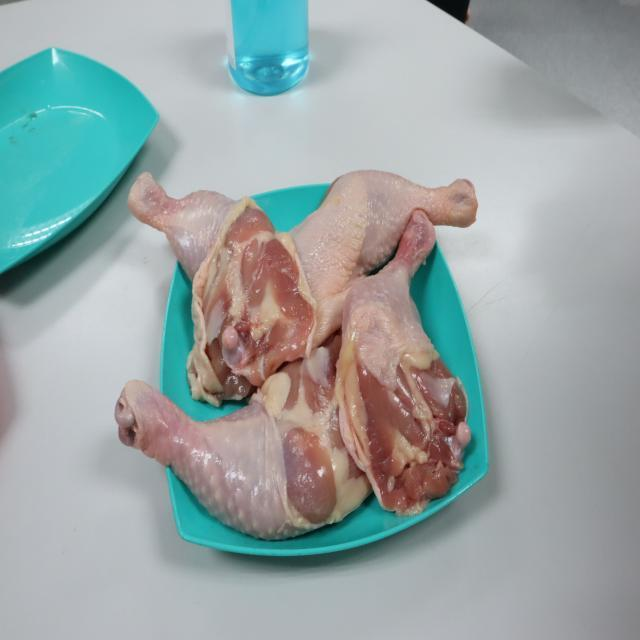quater: (340, 208, 475, 502), (115, 378, 368, 534), (125, 170, 302, 382), (284, 170, 489, 292)
